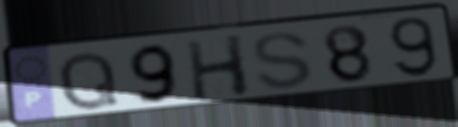8: (321, 23, 374, 85)
9: (124, 42, 181, 107), (384, 15, 441, 79)
H: (182, 32, 253, 102)
Q: (57, 49, 122, 113)
S: (250, 30, 316, 92)
